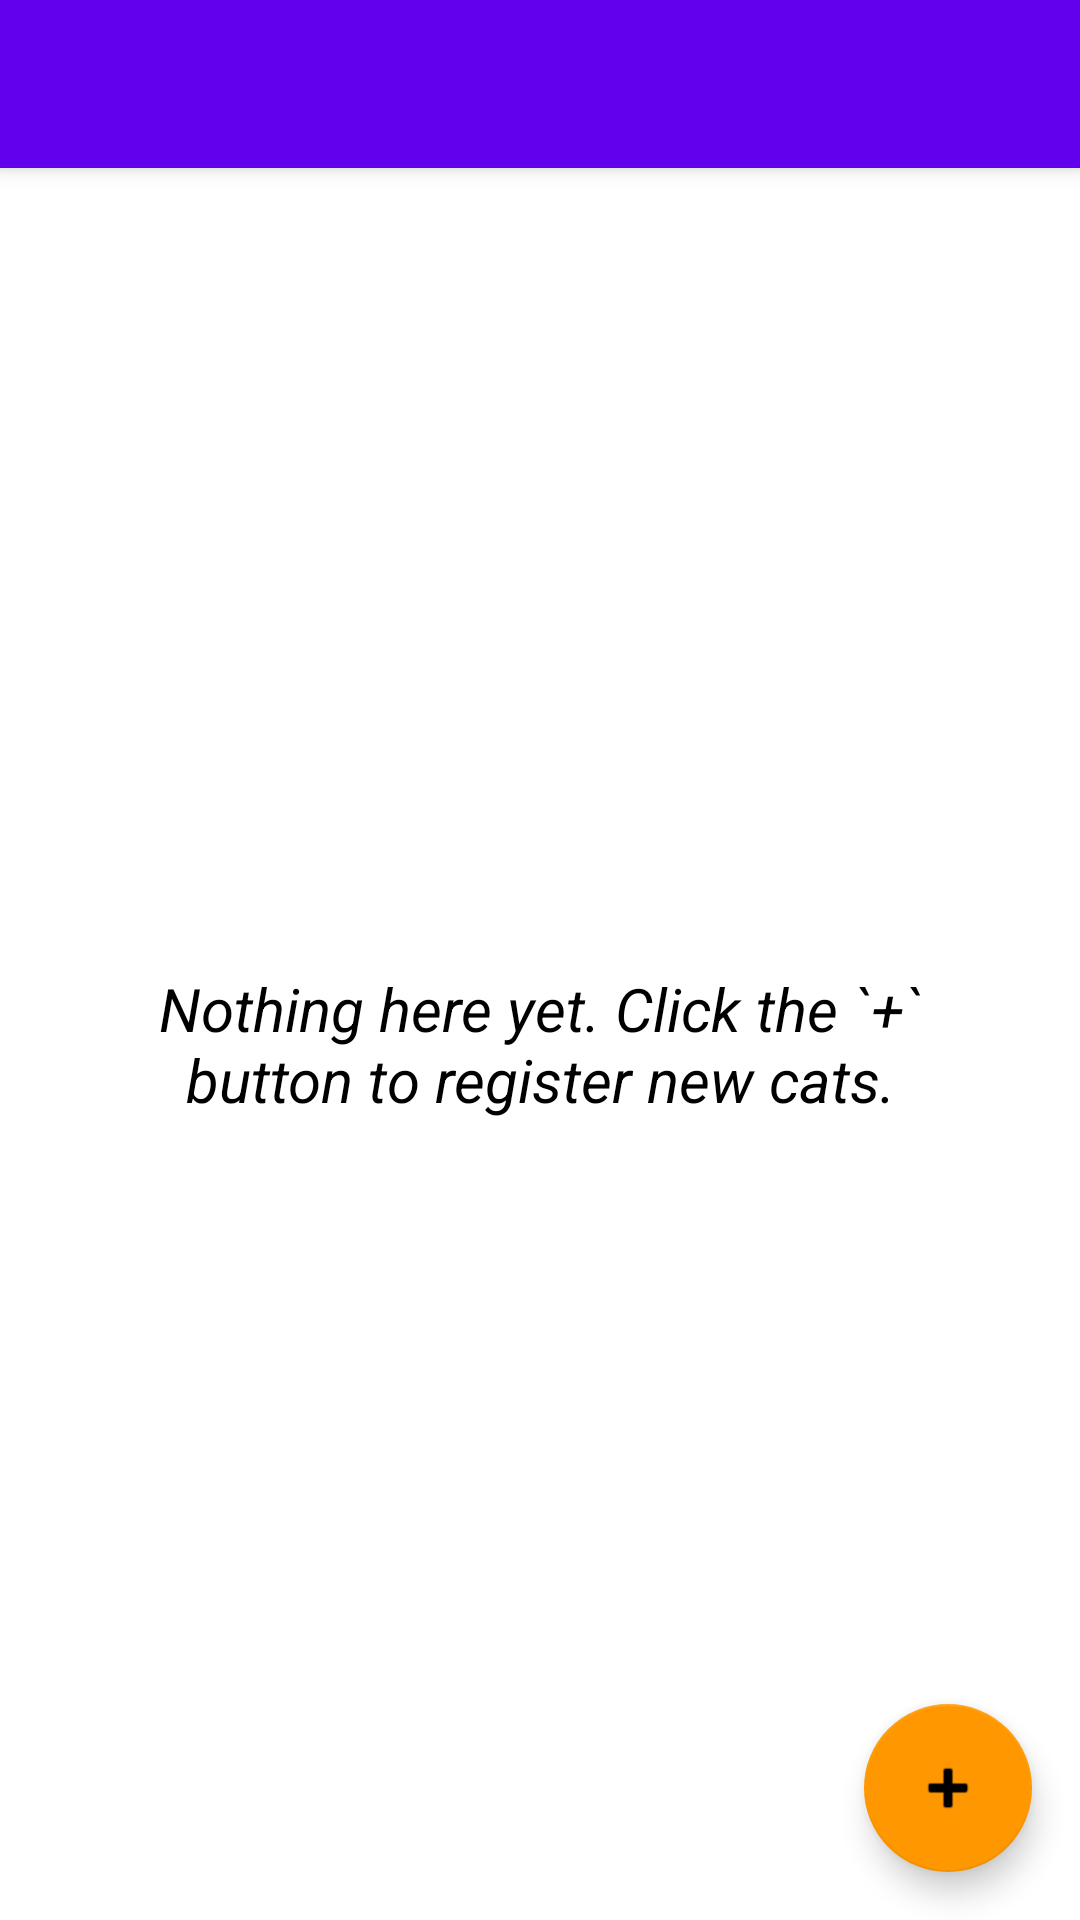

Point at icon controls on the screen. Image size 1080w x 1920h, points as [x,y].
Add Cat: [948,1788]
